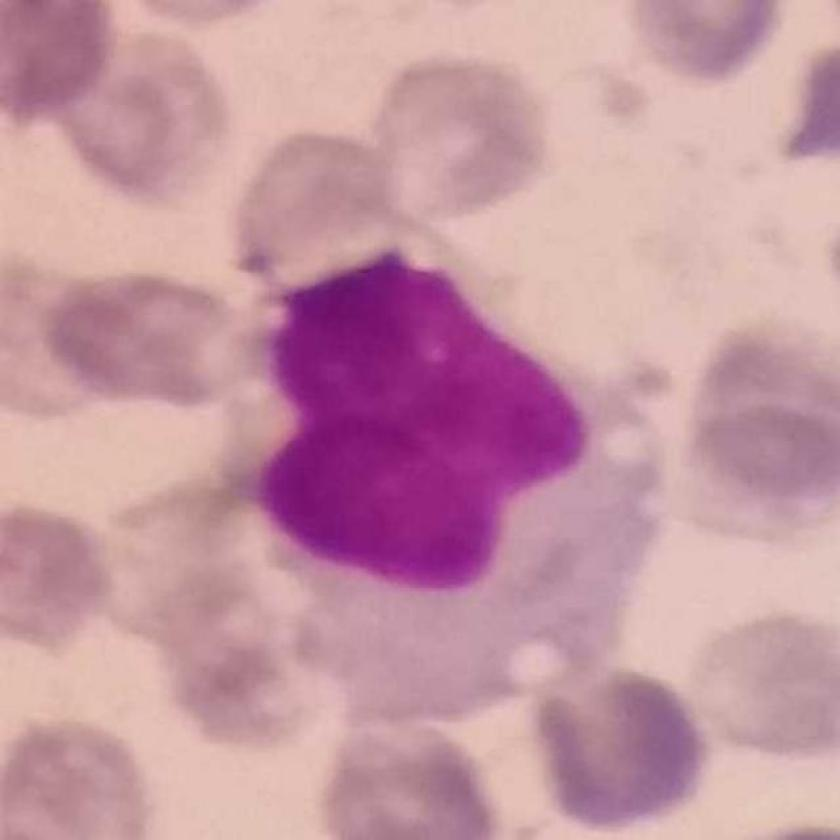monocyte: (205, 195, 686, 723)
